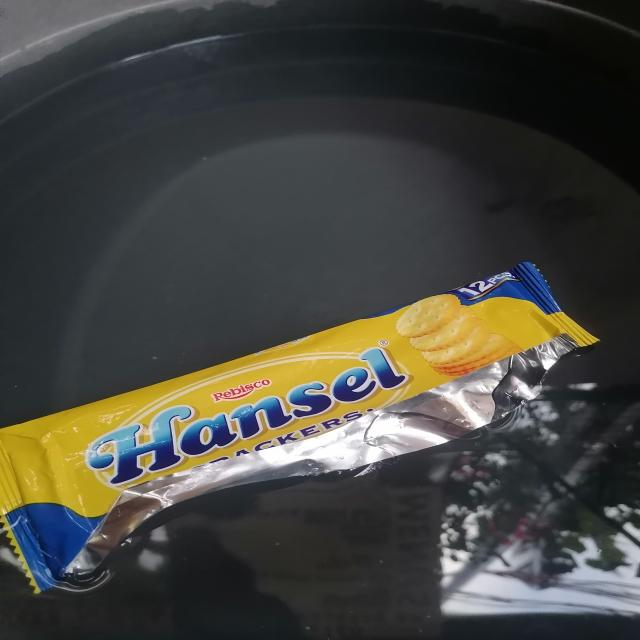Plastic Wrapper: (0, 263, 594, 640)
